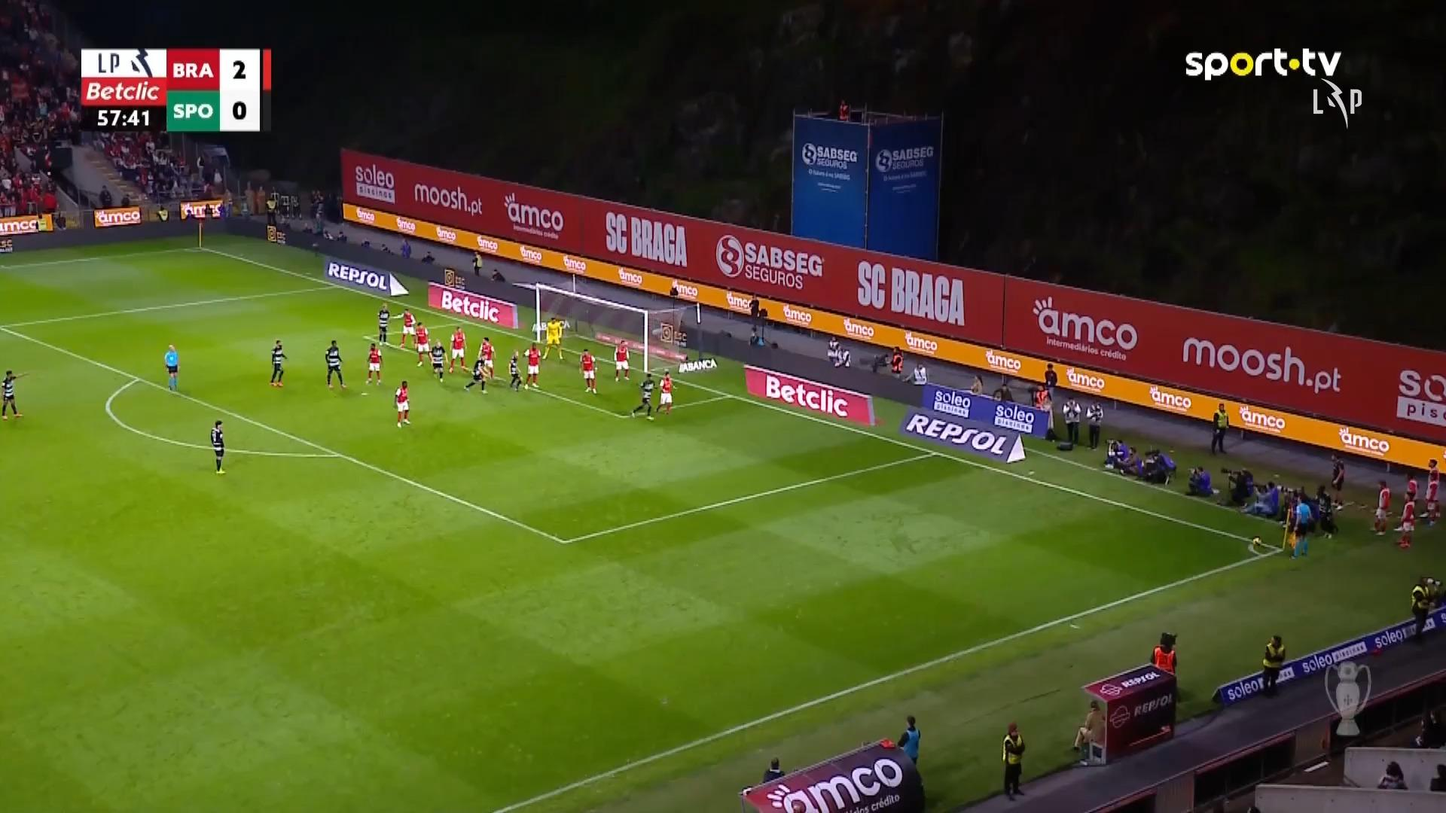ball: (1252, 535, 1261, 546)
goalkeeper: (542, 315, 565, 360)
player: (630, 372, 655, 419), (0, 369, 23, 419), (324, 339, 345, 388), (448, 325, 468, 373), (578, 348, 598, 394), (463, 358, 488, 394), (393, 379, 411, 428), (269, 339, 287, 387), (522, 343, 541, 388), (412, 320, 430, 367), (428, 338, 447, 382), (612, 339, 631, 382), (477, 336, 496, 379), (210, 419, 225, 473), (365, 342, 383, 385), (657, 369, 673, 414), (506, 349, 522, 391), (398, 309, 415, 348), (376, 303, 391, 347)
referee: (1286, 497, 1310, 560), (163, 343, 179, 391)
